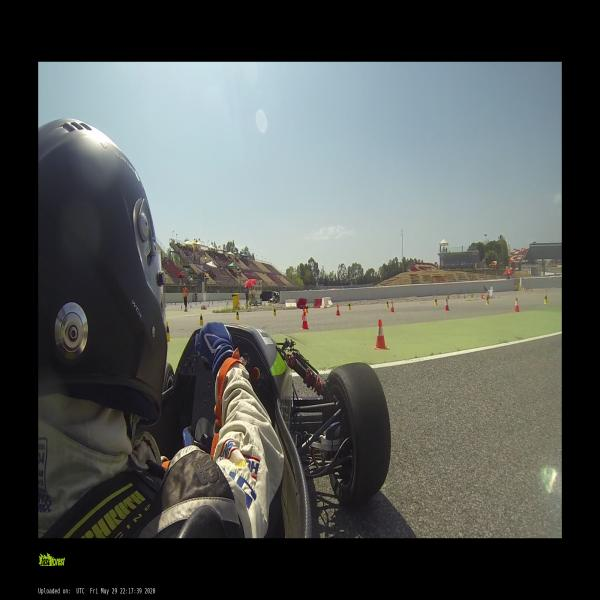orange_cone: (374, 320, 388, 350), (301, 312, 310, 330), (515, 298, 519, 312), (445, 298, 449, 311), (302, 307, 306, 320), (336, 304, 340, 316), (390, 302, 394, 313)
yellow_cone: (166, 321, 172, 342), (199, 312, 204, 326), (543, 293, 548, 304), (236, 309, 239, 320), (434, 298, 438, 306), (347, 302, 351, 310), (273, 307, 276, 316), (386, 300, 389, 308), (486, 298, 490, 304), (306, 306, 308, 312)
